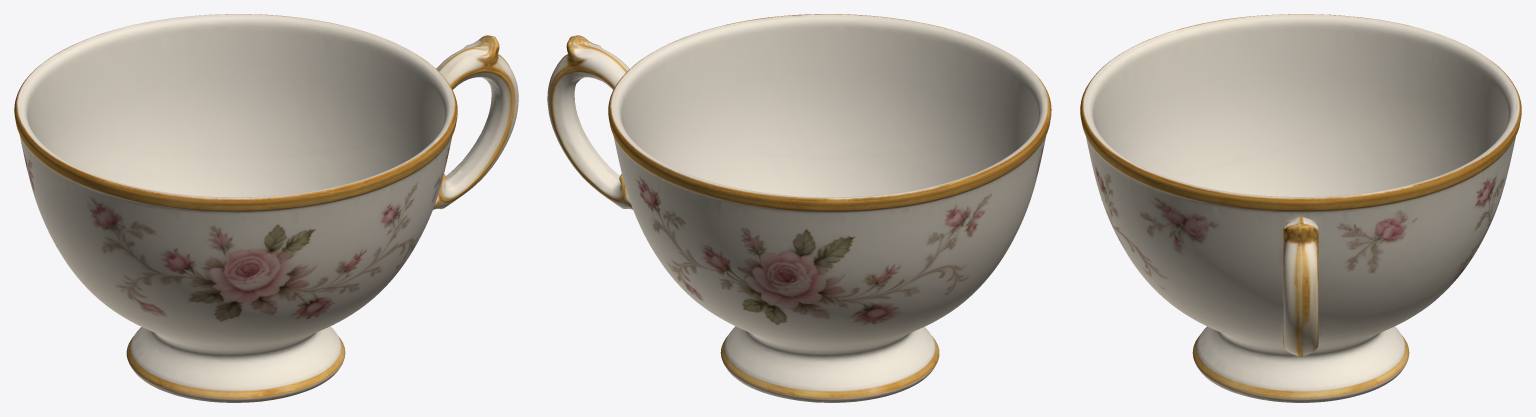
File: tea cup new.glb
3 views of the same model, side by side, from view 1: azimuth 30°, elevation 25°; view 2: azimuth 150°, elevation 25°; view 3: azimuth 270°, elevation 25° (orthographic).
Parts seen in each view (by area): view 1: Mesh_0; view 2: Mesh_0; view 3: Mesh_0.
Boxes of the visible parts, x1=… form: Mesh_0: x1=14, y1=14, x2=518, y2=402; Mesh_0: x1=547, y1=14, x2=1051, y2=402; Mesh_0: x1=1080, y1=14, x2=1521, y2=402.
Size of the model in its own units: 1.08 by 0.5699 by 0.8794.
1 material, 1 textured.
